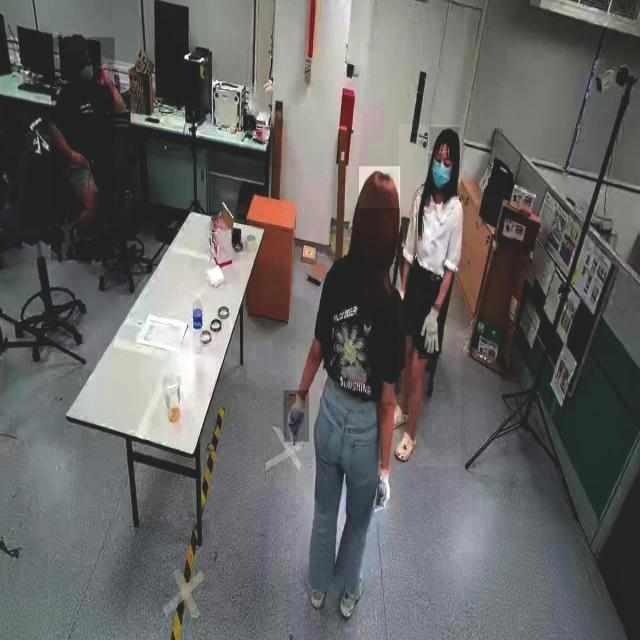face_mask: (428, 153, 454, 195), (78, 61, 100, 89)
hand_glove: (284, 390, 310, 443), (369, 466, 393, 522), (418, 304, 440, 360)
hand_noglove: (92, 61, 108, 87), (72, 148, 90, 169)
head_nohelmet: (359, 166, 401, 209), (430, 127, 460, 152), (64, 38, 88, 52)
person: (296, 166, 401, 625), (399, 125, 461, 468), (51, 38, 115, 262)
shoes: (338, 566, 367, 622), (306, 554, 330, 616)
